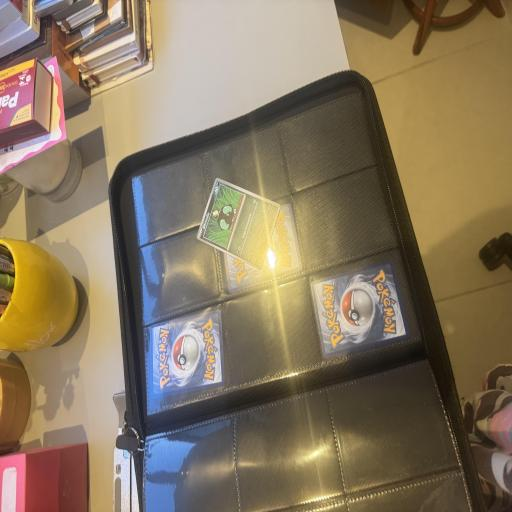card: (192, 174, 286, 274)
